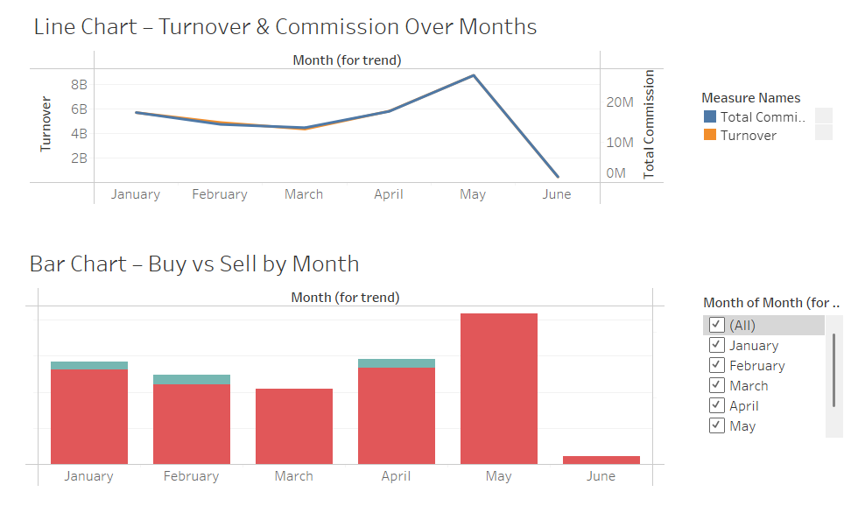

The dashboard page shown, as its layout file describes it:
{"tool":"tableau","page":{"name":"Dashboard 1","canvas":[1000,800],"ordinal":0},"visuals":[{"type":"text","box":[244,20,522,53]},{"type":"worksheet","title":"Sheet 1","mark":"Automatic","rows":["Turnover","Total Commission"],"cols":["Calculation_1055541700989020"],"box":[41,100,725,226]},{"type":"legend","title":"Sheet 1","param":"[federated.1f2qm9k0xcrjhh1e848wn1d8s6is].[:Measure Names]","box":[808,193,152,59]},{"type":"worksheet","title":"Sheet 2","mark":"Bar","rows":["Total Sell","Total Buy"],"cols":["Calculation_1055541700989020"],"box":[37,348,731,277]},{"type":"filter","title":"Sheet 2","param":"[federated.1f2qm9k0xcrjhh1e848wn1d8s6is].[mn:Calculation_1055541700989020:ok]","box":[810,427,160,165]}]}

Visuals, with their boxes on the page's 1000x800 design canvas (x1, y1, x2, y2). These are canvas units, not pixel positions in the 851x527 screenshot, which may show the page scaled, cropped or inside an application window:
text: [x1=244, y1=20, x2=766, y2=73]
"Sheet 1" worksheet: [x1=41, y1=100, x2=766, y2=326]
"Sheet 1" legend: [x1=808, y1=193, x2=960, y2=252]
"Sheet 2" worksheet (Bar marks): [x1=37, y1=348, x2=768, y2=625]
"Sheet 2" filter: [x1=810, y1=427, x2=970, y2=592]
